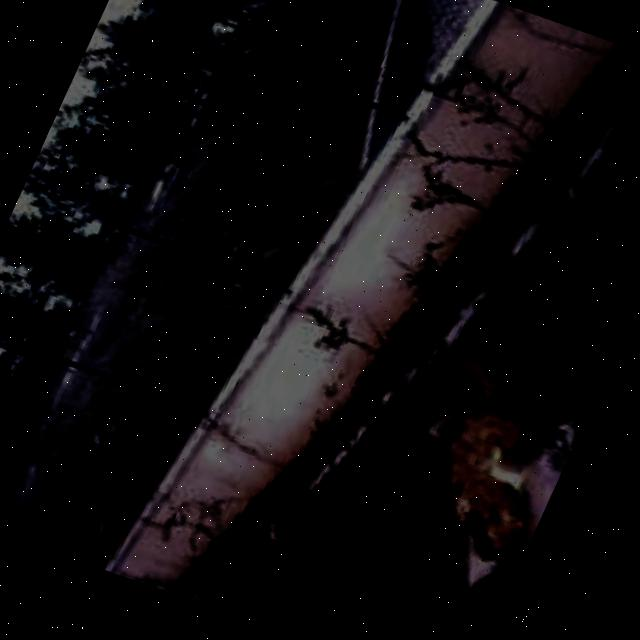Fire: (382, 354, 591, 599)
